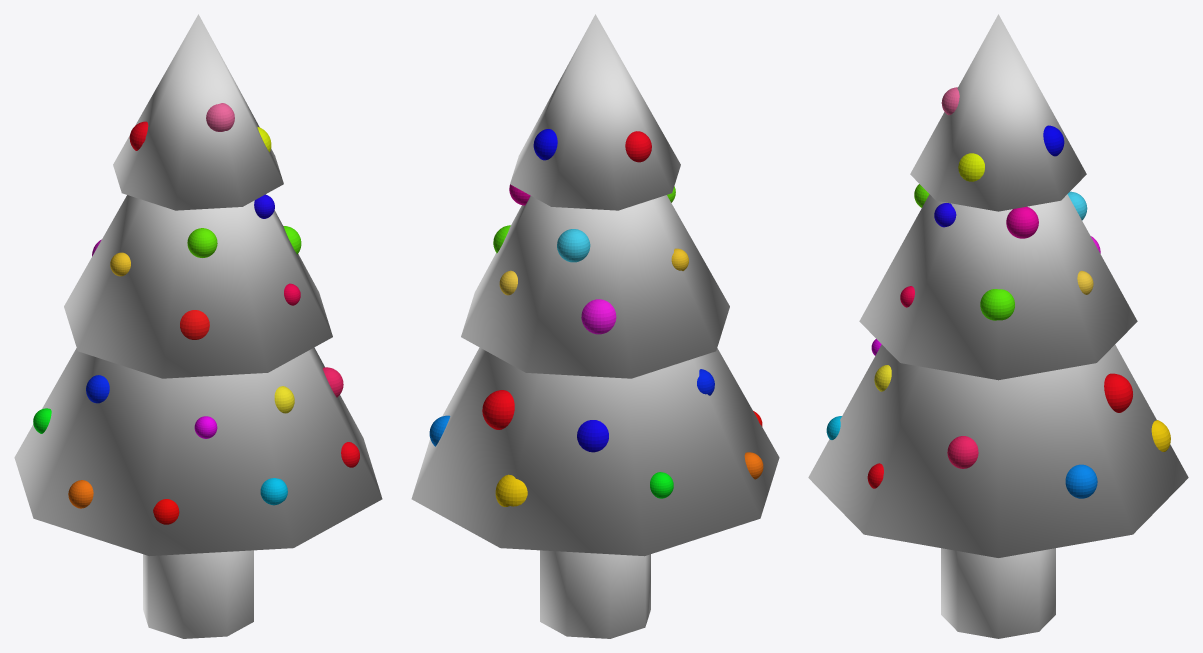
Rendered from tree.glb.
3 renders of one model, left to right at view 1: azimuth 30°, elevation 25°; view 2: azimuth 150°, elevation 25°; view 3: azimuth 270°, elevation 25°, orthographic.
Parts seen in each view (by area): view 1: Cone, Cone.001, Cone.002, Cylinder, Sphere.081, Sphere.080, Sphere.083, Sphere.100, Sphere.101, Sphere.084, Sphere.077; view 2: Cone, Cone.001, Cone.002, Cylinder, Sphere.091, Sphere.097, Sphere.093, Sphere.096, Sphere.095, Sphere.098, Sphere.092, Sphere.086; view 3: Cone, Cone.001, Cone.002, Cylinder, Sphere.088, Sphere.091, Sphere.090, Sphere.089, Sphere.087, Sphere.099.
Boxes of the visible parts, x1,y1,x2,y2 form: Cone: [14, 347, 382, 556]; Cone.001: [64, 194, 332, 378]; Cone.002: [113, 14, 283, 210]; Cylinder: [143, 550, 253, 638]; Sphere.081: [187, 228, 217, 257]; Sphere.080: [180, 310, 209, 339]; Sphere.083: [206, 103, 234, 131]; Sphere.100: [260, 478, 287, 505]; Sphere.101: [68, 480, 93, 508]; Sphere.084: [86, 375, 109, 403]; Sphere.077: [153, 499, 179, 524]; Cone: [411, 347, 779, 556]; Cone.001: [461, 195, 729, 378]; Cone.002: [510, 14, 680, 210]; Cylinder: [540, 550, 650, 638]; Sphere.091: [482, 390, 514, 429]; Sphere.097: [581, 299, 616, 334]; Sphere.093: [557, 229, 590, 262]; Sphere.096: [577, 420, 608, 452]; Sphere.095: [495, 474, 527, 506]; Sphere.098: [625, 131, 651, 162]; Sphere.092: [533, 129, 557, 160]; Sphere.086: [650, 472, 673, 498]; Cone: [808, 344, 1188, 557]; Cone.001: [859, 194, 1137, 380]; Cone.002: [910, 14, 1086, 211]; Cylinder: [941, 548, 1055, 638]; Sphere.088: [980, 289, 1014, 320]; Sphere.091: [1104, 373, 1132, 412]; Sphere.090: [1065, 464, 1097, 498]; Sphere.089: [1006, 206, 1038, 238]; Sphere.087: [947, 436, 978, 468]; Sphere.099: [958, 153, 984, 181].
Size of the model in its own units: 2.27 by 3.96 by 2.27.
